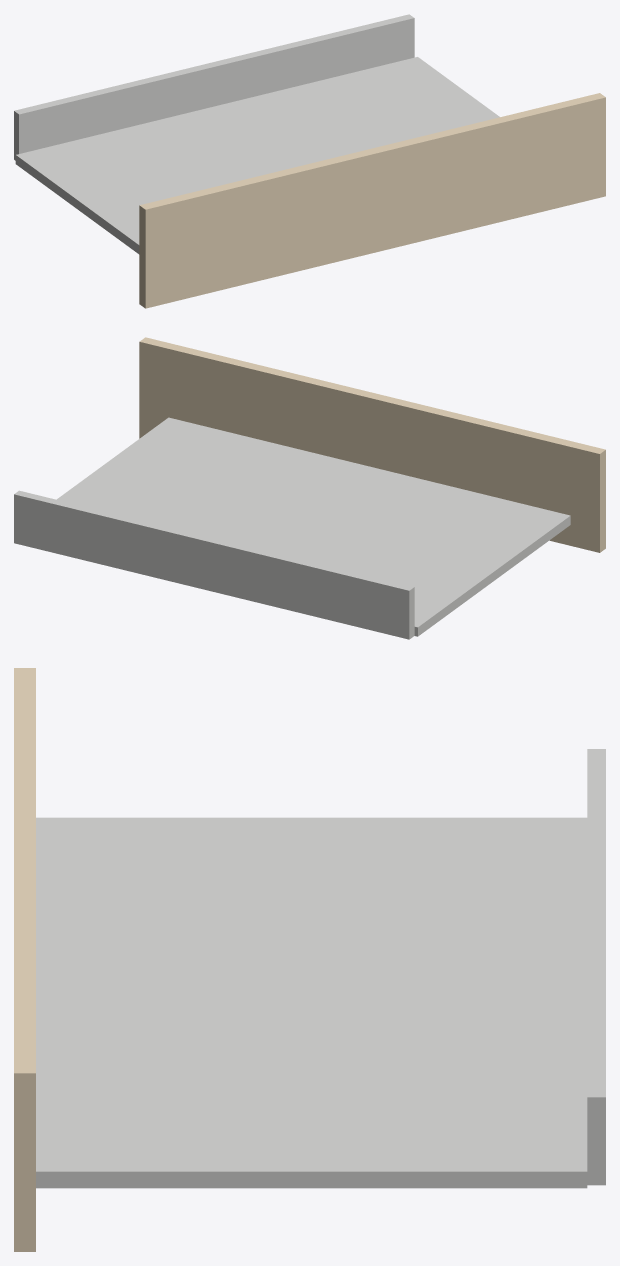
Rendered from M2_skuff3.glb.
3 views of the same model, one above another, from view 1: azimuth 30°, elevation 25°; view 2: azimuth 150°, elevation 25°; view 3: azimuth 270°, elevation 25° (orthographic). The views are drawn at different scales.
Size of the model in its own units: 828 by 170 by 511.
